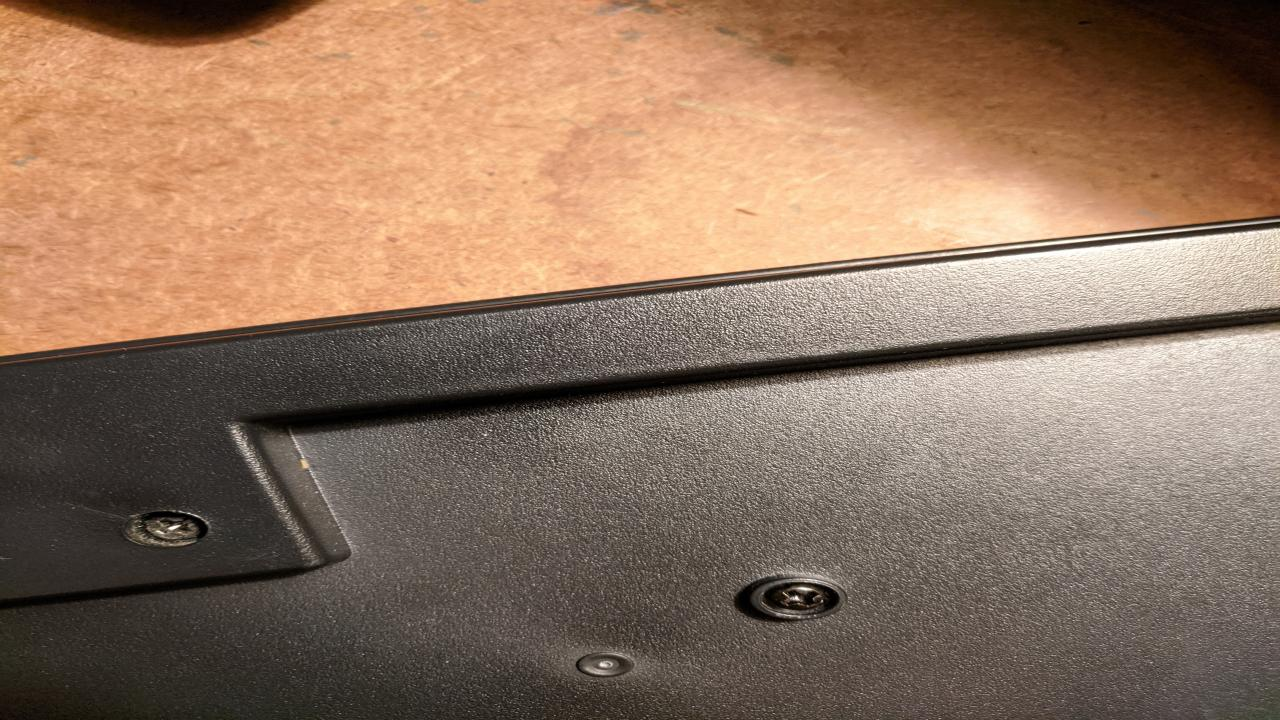CRS: (138, 510, 201, 540), (766, 583, 831, 610)
